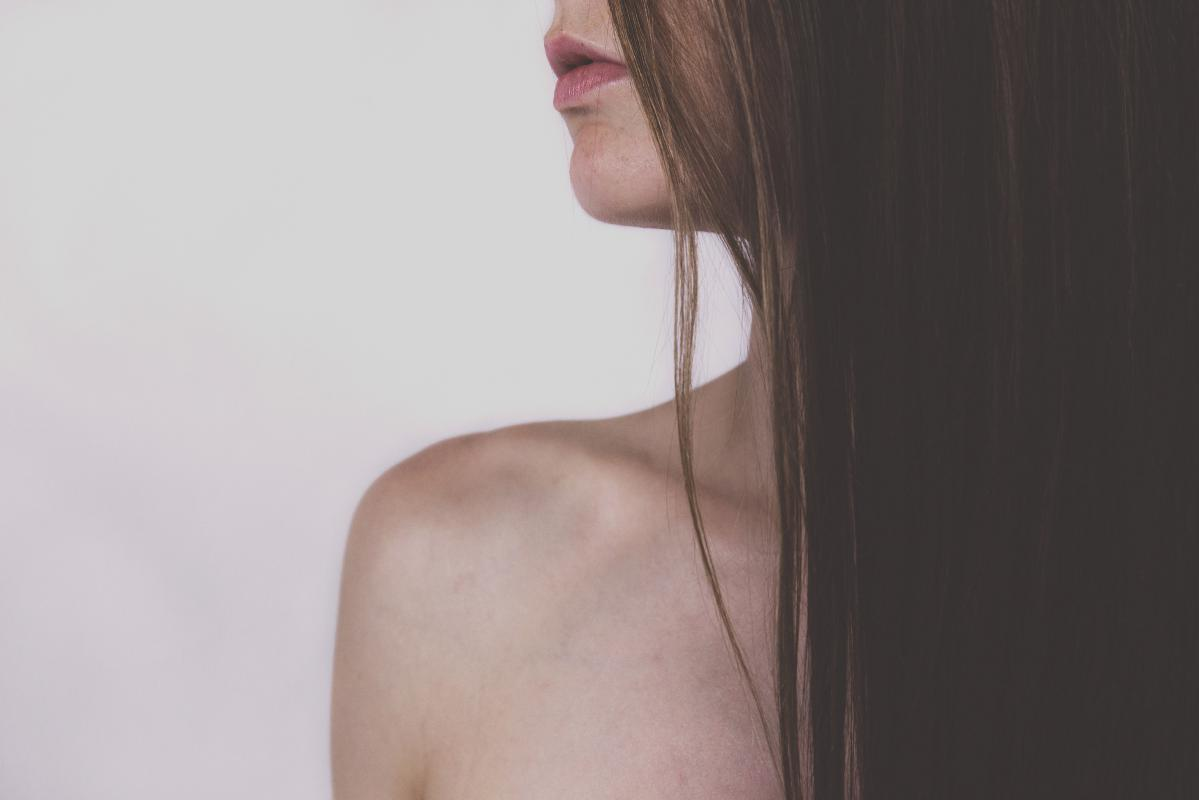Person: (333, 8, 1011, 800)
